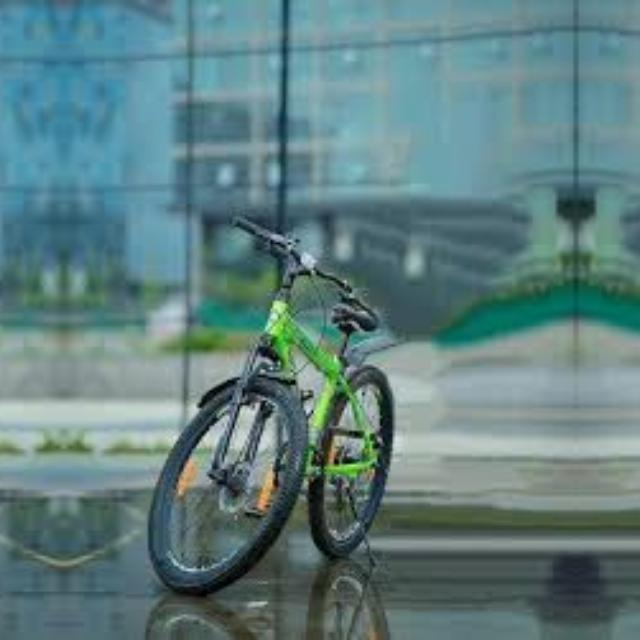obstacle: (123, 173, 432, 640), (0, 173, 2, 640)
